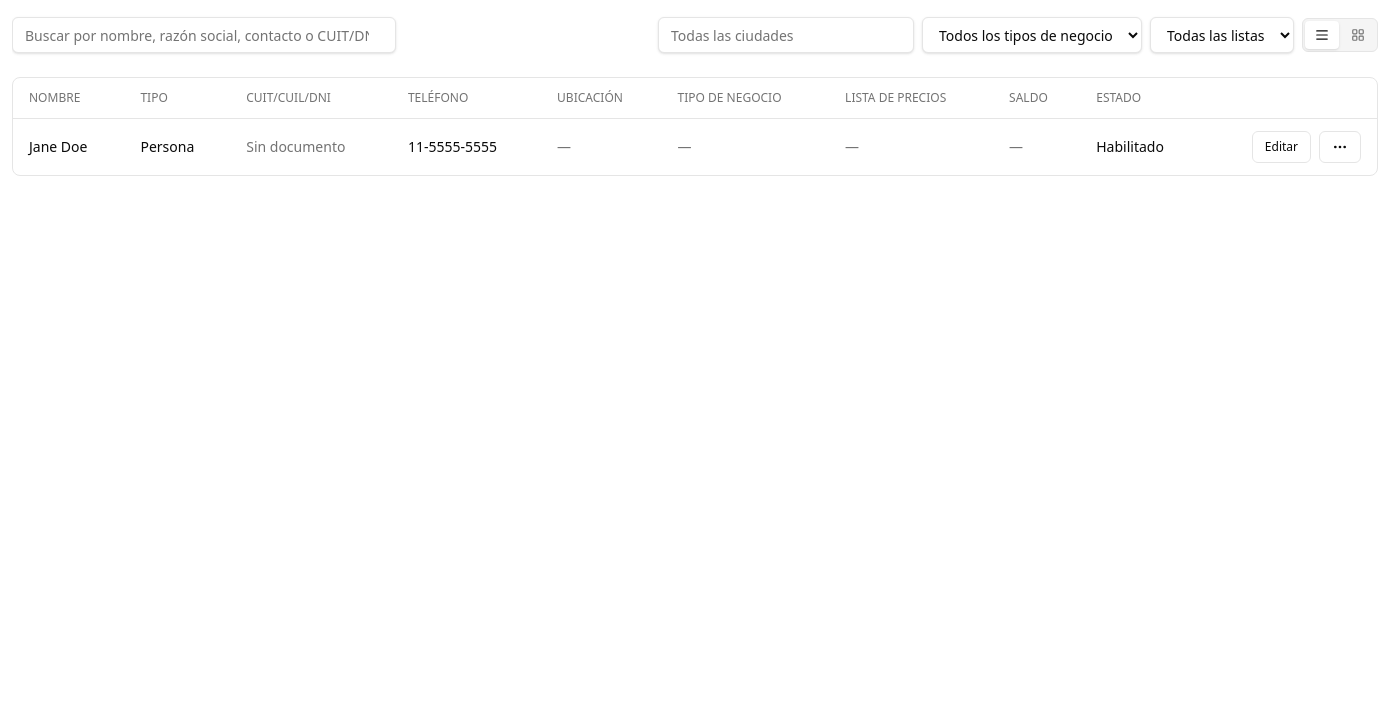
Test case: CustomersScreen › reloads the edited customer after a modification conflict and shows the fresh data
expect the text "Jane Doe" is shown: met, box [13,118,124,175]
Click the button "Editar".
click(1281, 147)  # box [1252,131,1311,163]
(page scrolled)
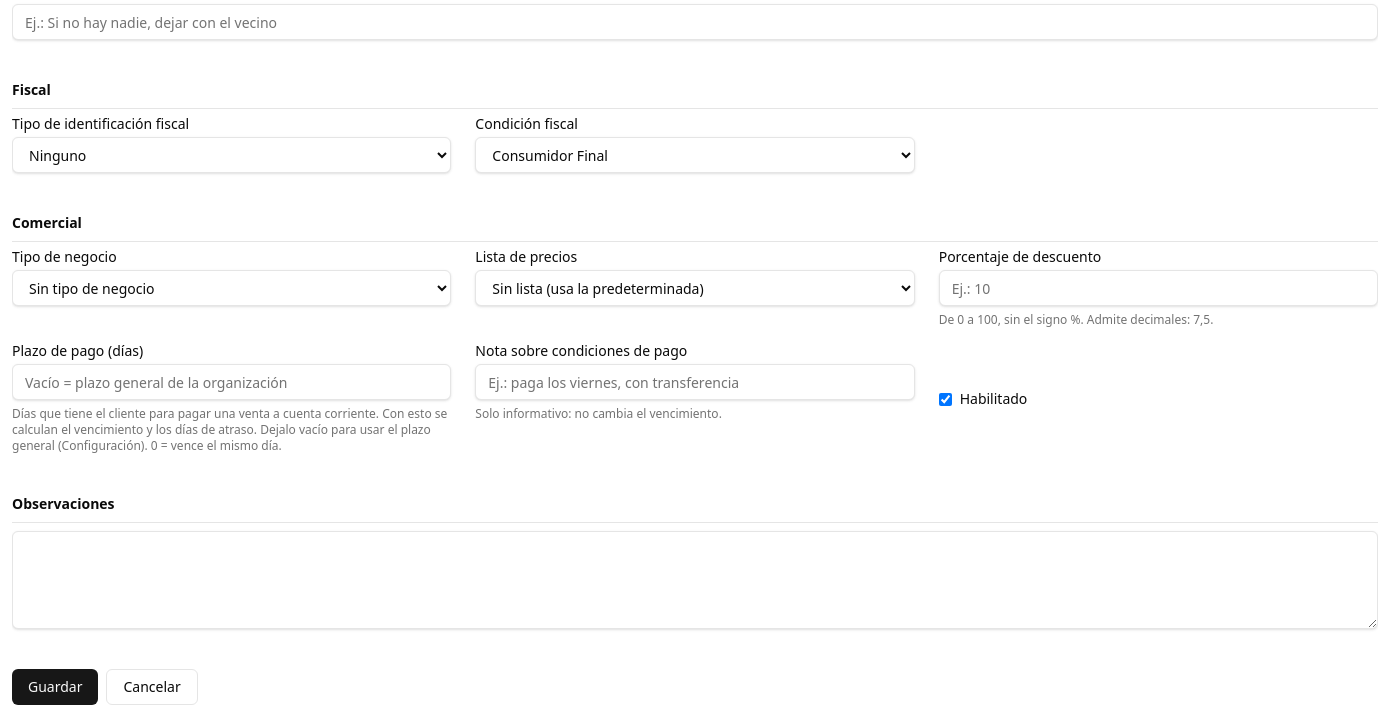
Click the button "Guardar".
click(55, 687)  # box [12,669,98,704]
(page scrolled)
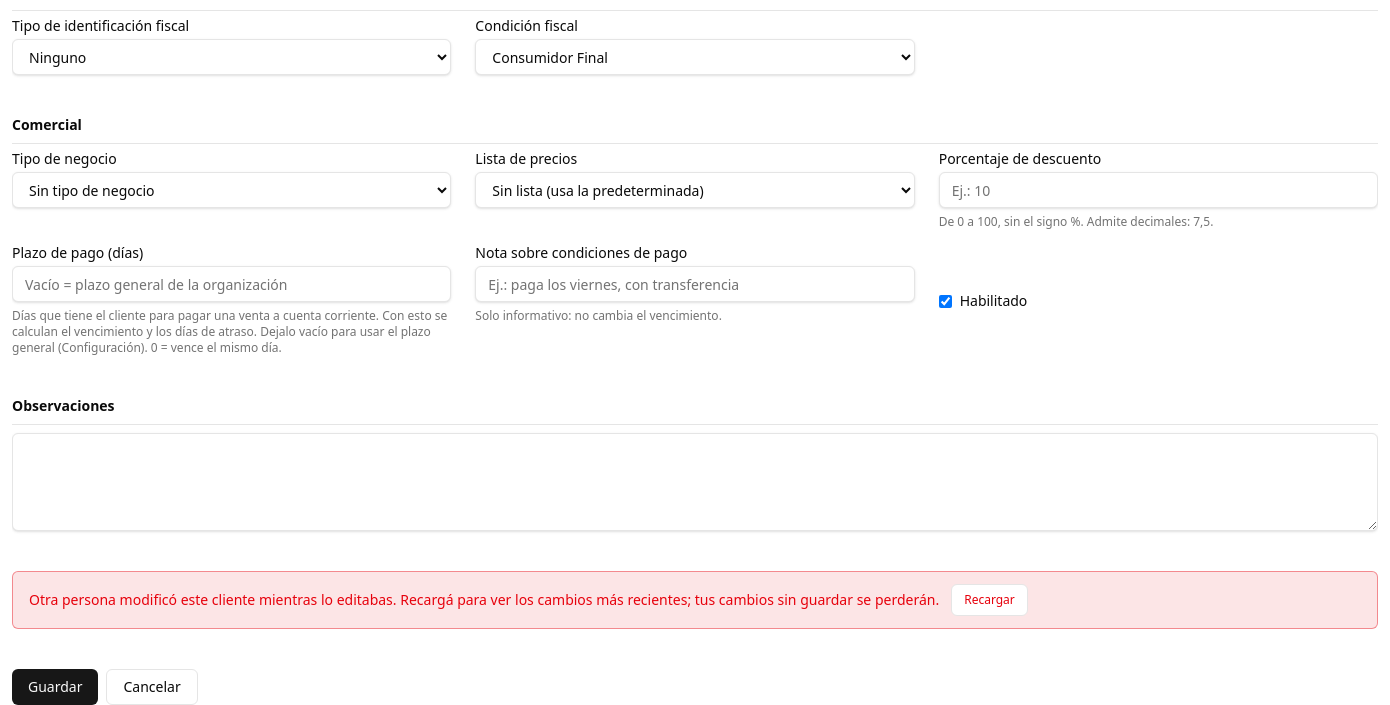
Click the button "Recargar".
click(990, 600)  # box [951,584,1028,616]
(page scrolled)
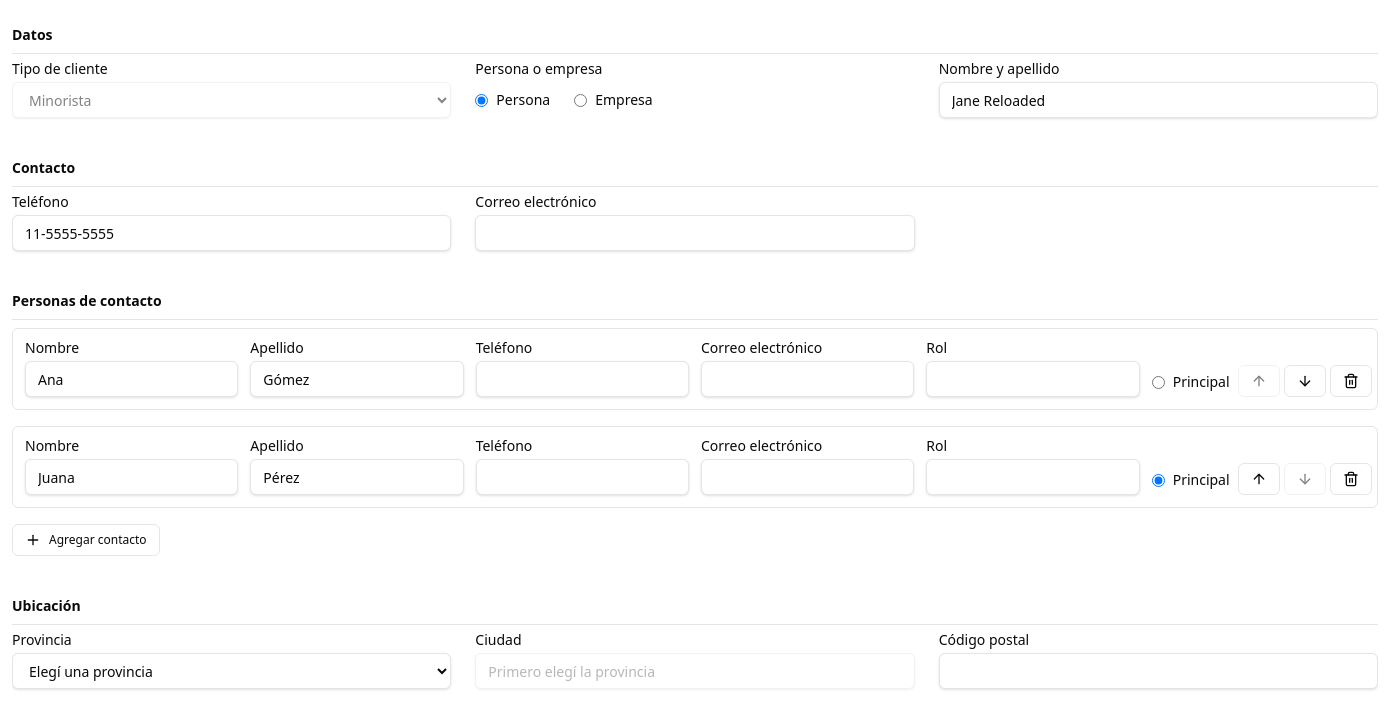
expect the field with id "displayName" holds "Jane Reloaded": met, box [939,82,1378,118]
expect the message is gone: met
